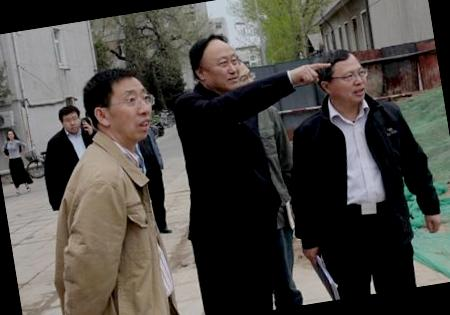no_helmet: (82, 58, 160, 146), (182, 26, 248, 98), (316, 44, 371, 109), (54, 101, 84, 138), (5, 125, 18, 142)
